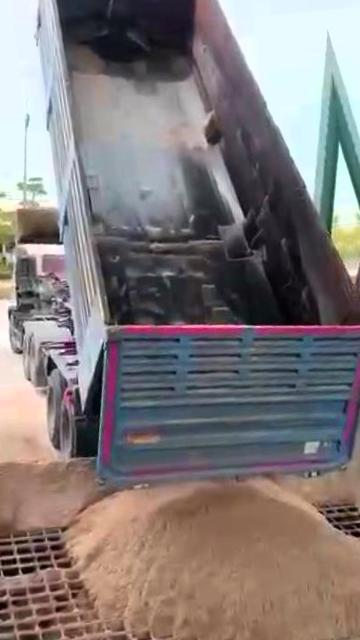sand: (68, 480, 360, 640), (0, 451, 100, 537), (277, 419, 360, 512), (0, 570, 44, 591)
